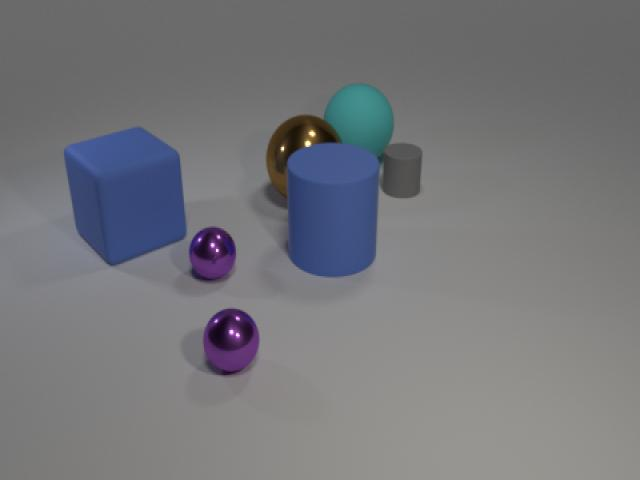cylinder: (280, 136, 384, 281), (380, 137, 426, 204)
round ball: (265, 107, 344, 202), (323, 79, 396, 166), (201, 305, 262, 379), (186, 224, 236, 284)
